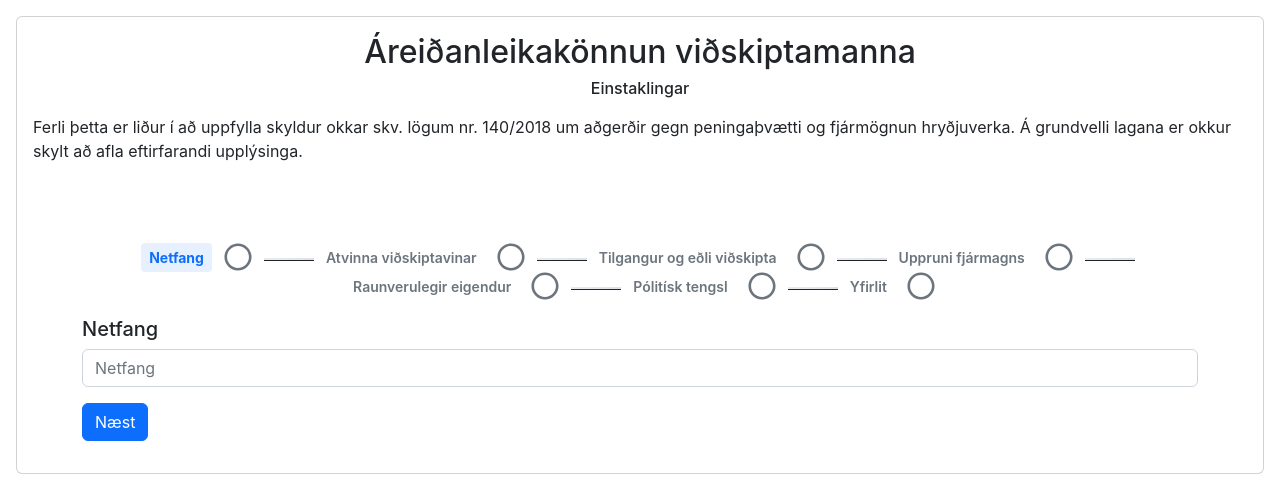
Test: Click on steps and check the form › should produce the correct form when step two is clicked
Click the element with id "step-1" at (511, 257), box [497, 243, 525, 271]
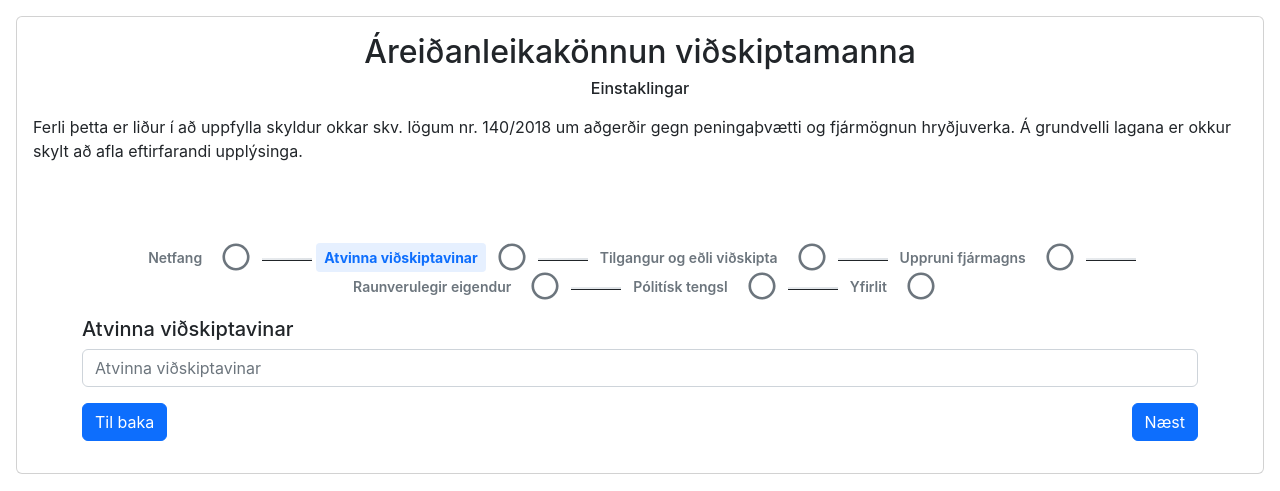
Now the field with placeholder "Atvinna viðskiptavinar" is shown, box [82, 349, 1198, 387]
